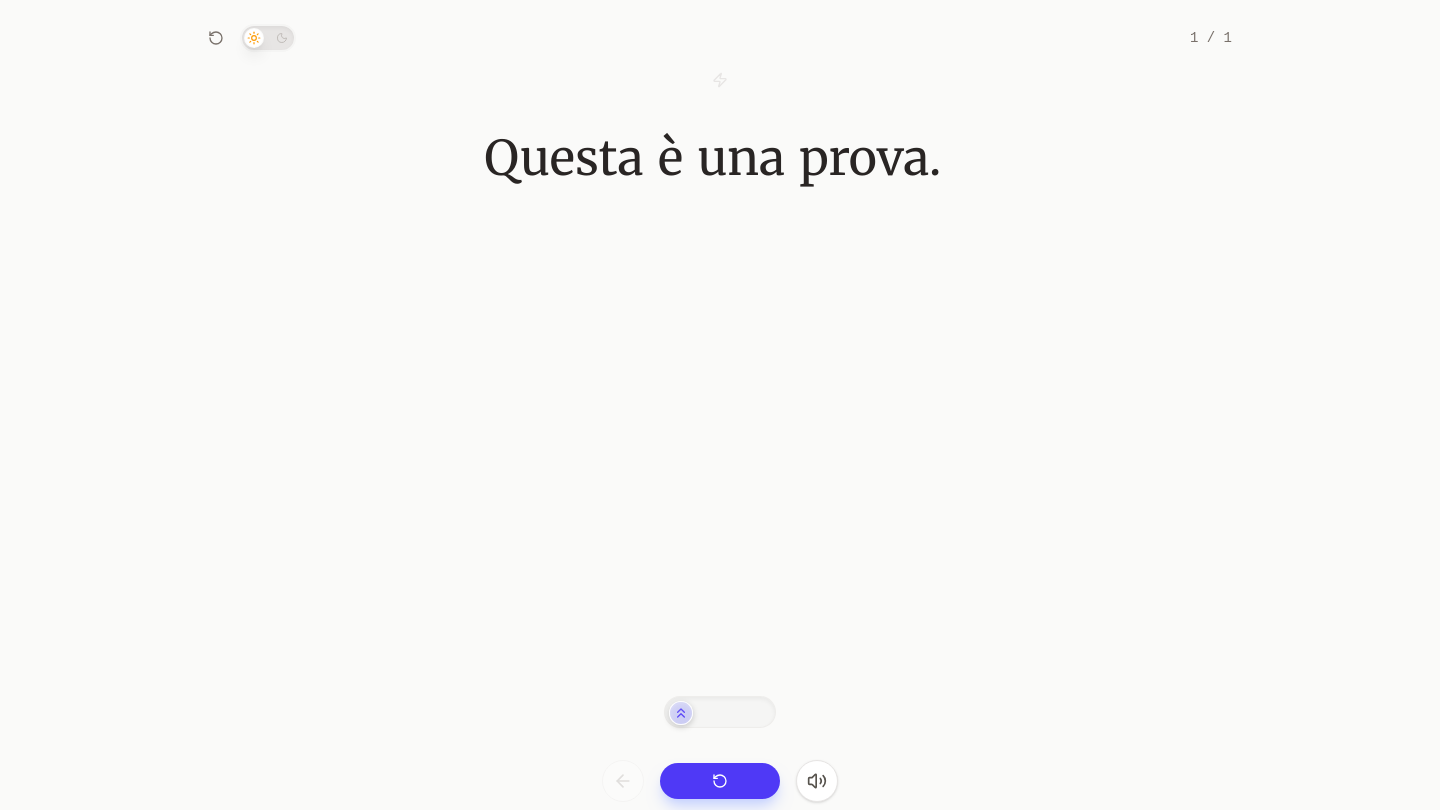
Test: Toggle Synonyms State Management › should toggle synonym visibility when clicking the slider thumb
The image size is (1440, 810).
Expected: the text "Questa" is shown, [484,128,644,188]
Expected: the text "test" is not shown
Note: Find and click the thumb
Click the element with test id "mode-switch-thumb": click(681, 713) [669,701,693,725]
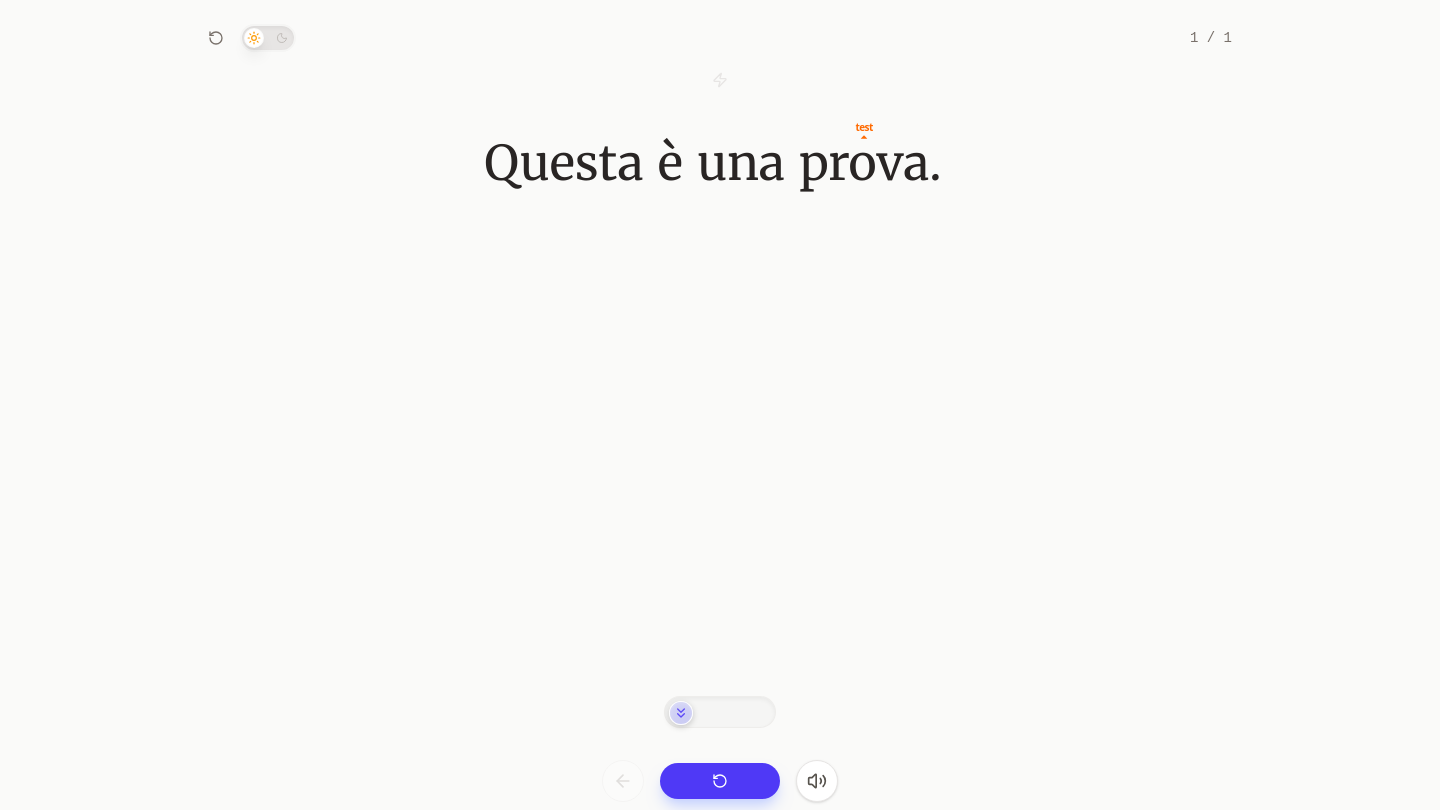
Expected: the text "test" is shown, [855,122,873,132]
Note: Click again to hide
Click the element with test id "mode-switch-thumb": click(681, 713) [669,701,693,725]
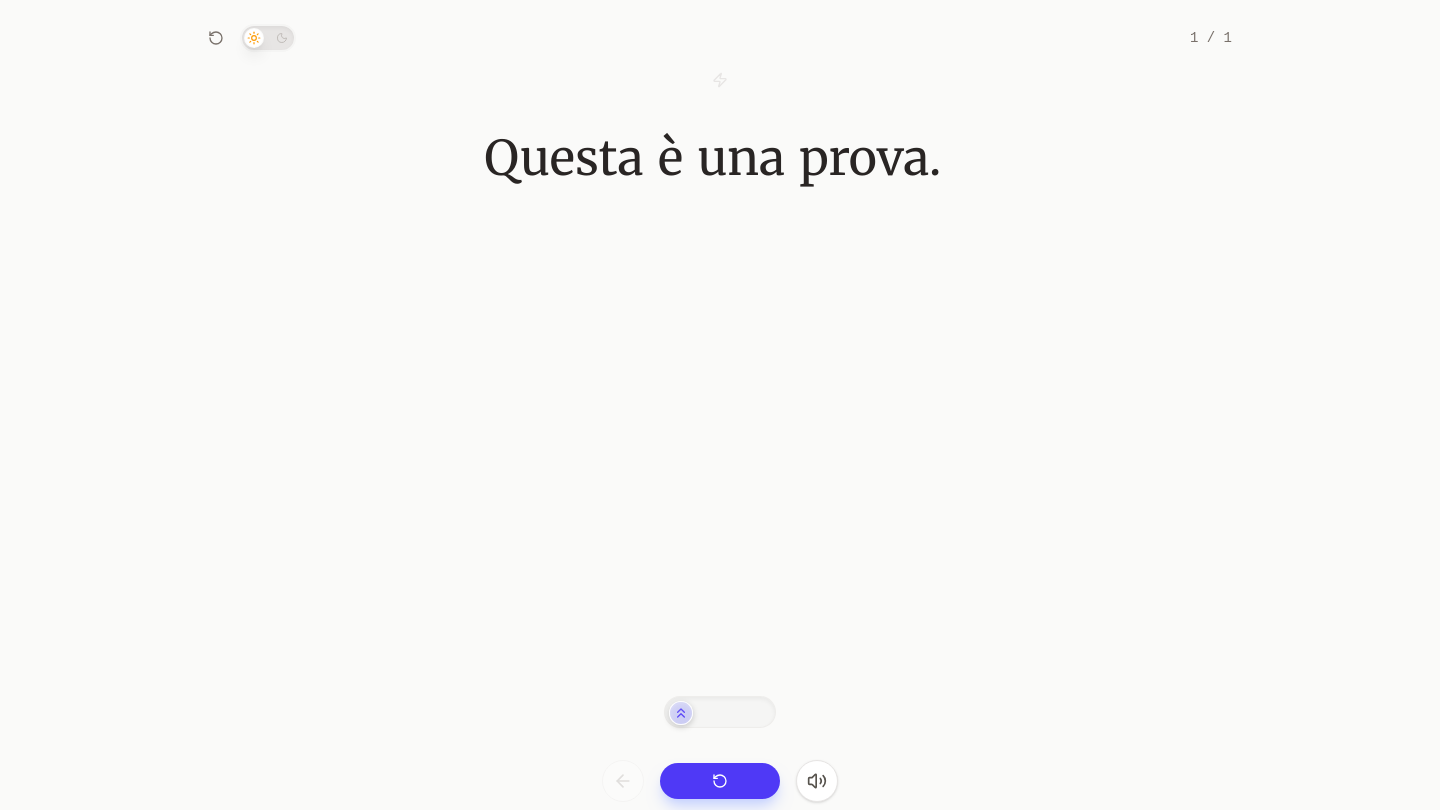
Expected: the text "test" is gone
